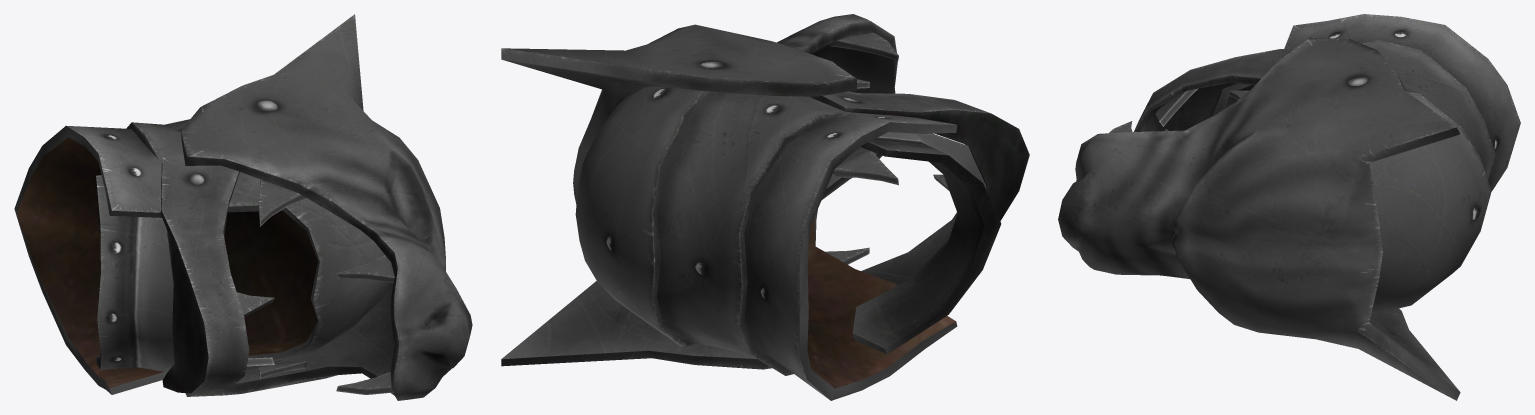
File: HoundHelm.fbx
The picture shows the model from 3 angles, left to right: view 1: azimuth 30°, elevation 25°; view 2: azimuth 150°, elevation 25°; view 3: azimuth 270°, elevation 25°; orthographic projection. The views are drawn at different scales.
Visible parts, largest first — view 1: sorry_im_berserk_helm_open; view 2: sorry_im_berserk_helm_open; view 3: sorry_im_berserk_helm_open.
Boxes of the visible parts, x1,y1,x2,y2 form: sorry_im_berserk_helm_open: [14, 14, 472, 400]; sorry_im_berserk_helm_open: [501, 14, 1029, 400]; sorry_im_berserk_helm_open: [1058, 14, 1520, 400].
Size of the model in its own units: 0.2118 by 0.1645 by 0.2522.
